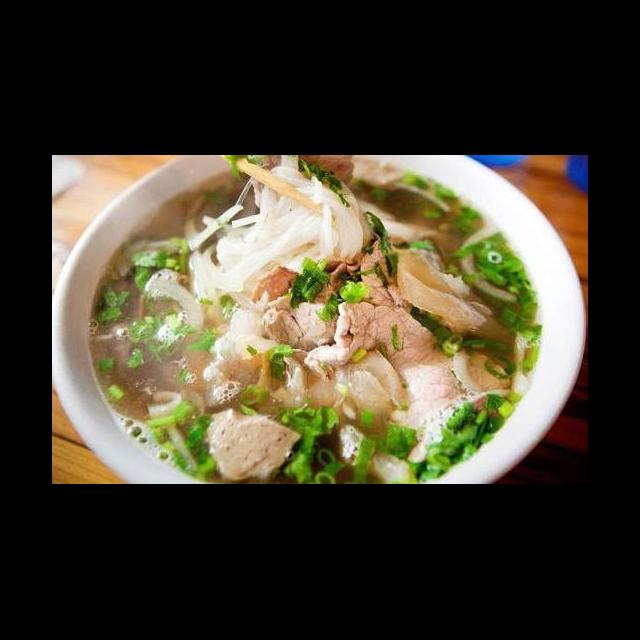banh pho: (187, 166, 379, 300)
pho bo: (100, 183, 547, 484)
thit bo: (295, 232, 454, 384), (376, 347, 516, 468), (244, 250, 377, 356), (195, 404, 306, 484)
